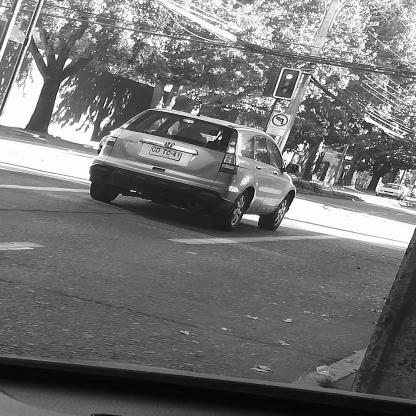Patente: (145, 144, 191, 163)
